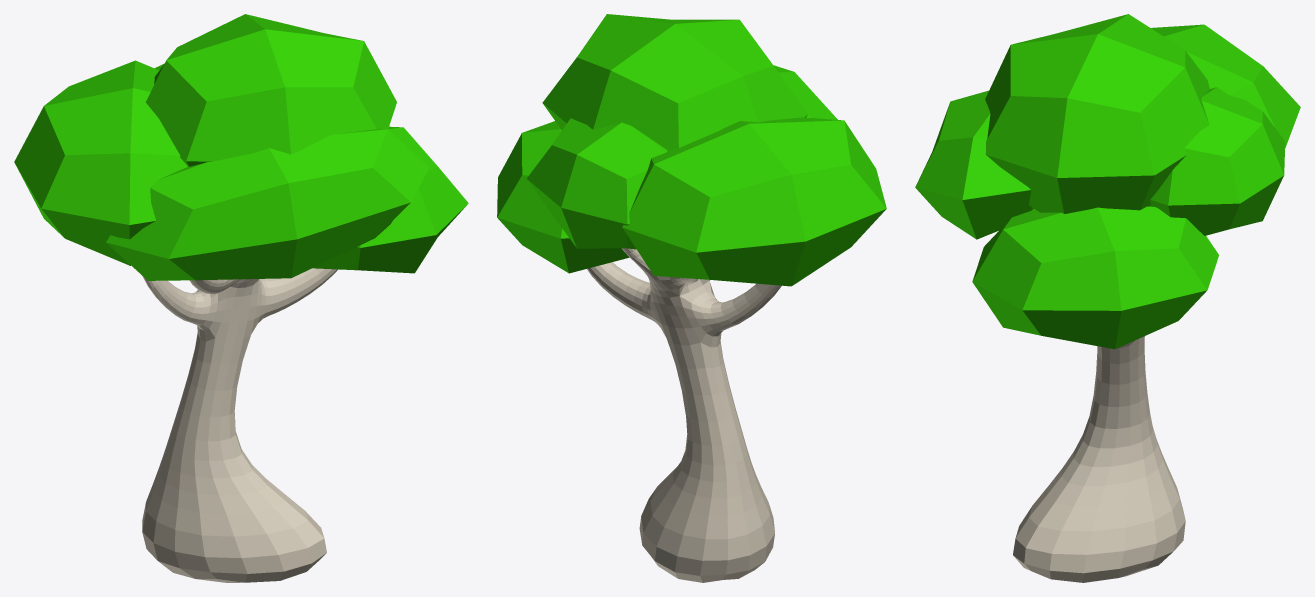
The model's file is Baum2.fbx.
3 renders of one model, left to right at view 1: azimuth 30°, elevation 25°; view 2: azimuth 150°, elevation 25°; view 3: azimuth 270°, elevation 25°, orthographic. The views are drawn at different scales.
Visible parts, largest first — view 1: Cube; view 2: Cube; view 3: Cube.
Boxes of the visible parts, x1,y1,x2,y2 form: Cube: (14, 14, 468, 582); Cube: (497, 14, 886, 582); Cube: (915, 14, 1300, 582).
Size of the model in its own units: 790 by 1043 by 665.
